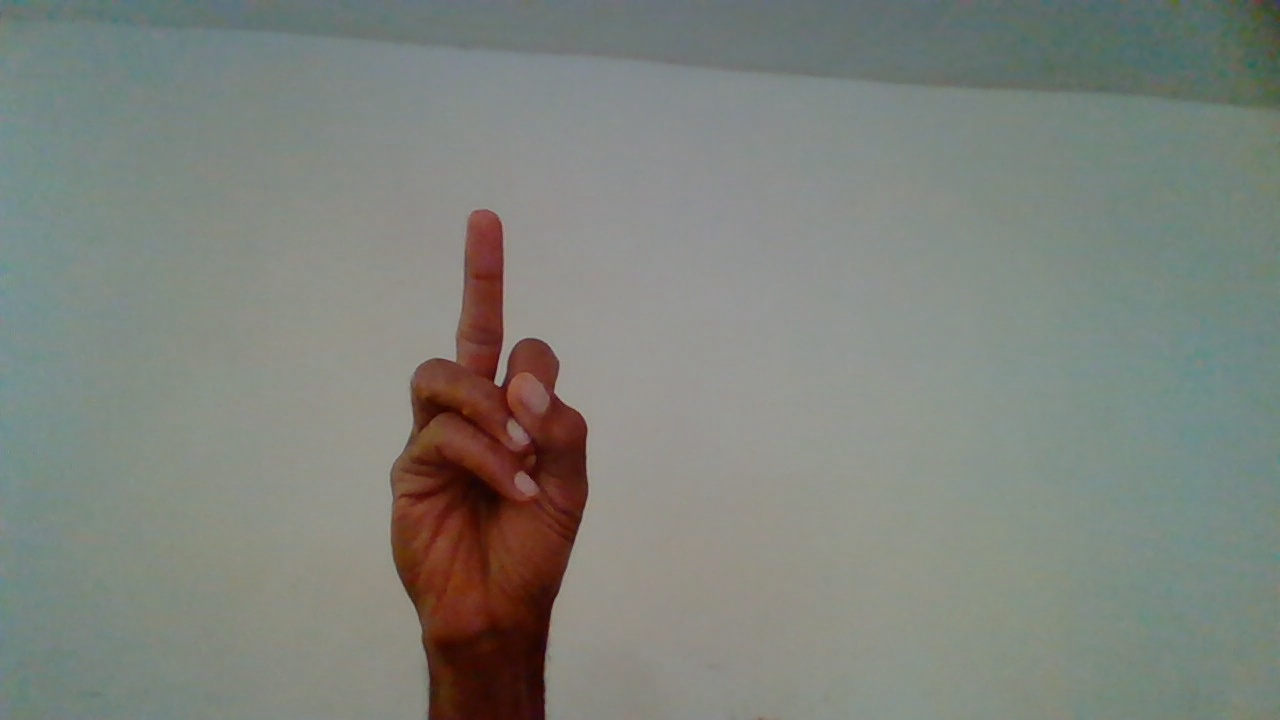he: (388, 206, 590, 705)
